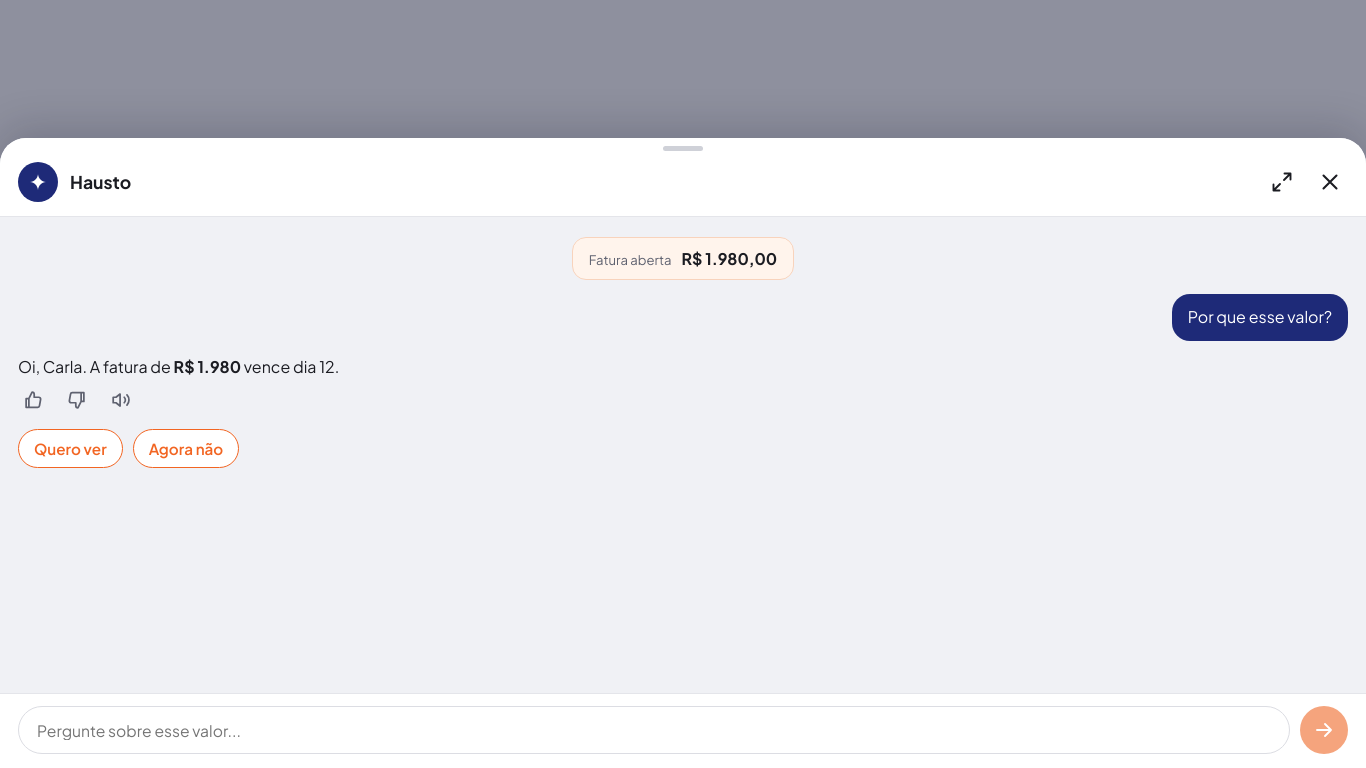
<Chat> › manda o texto da sugestão como mensagem reaproveitando a sessão
Click the button "Quero ver" at {"x": 70, "y": 449}, box x1=18 y1=429 x2=123 y2=468
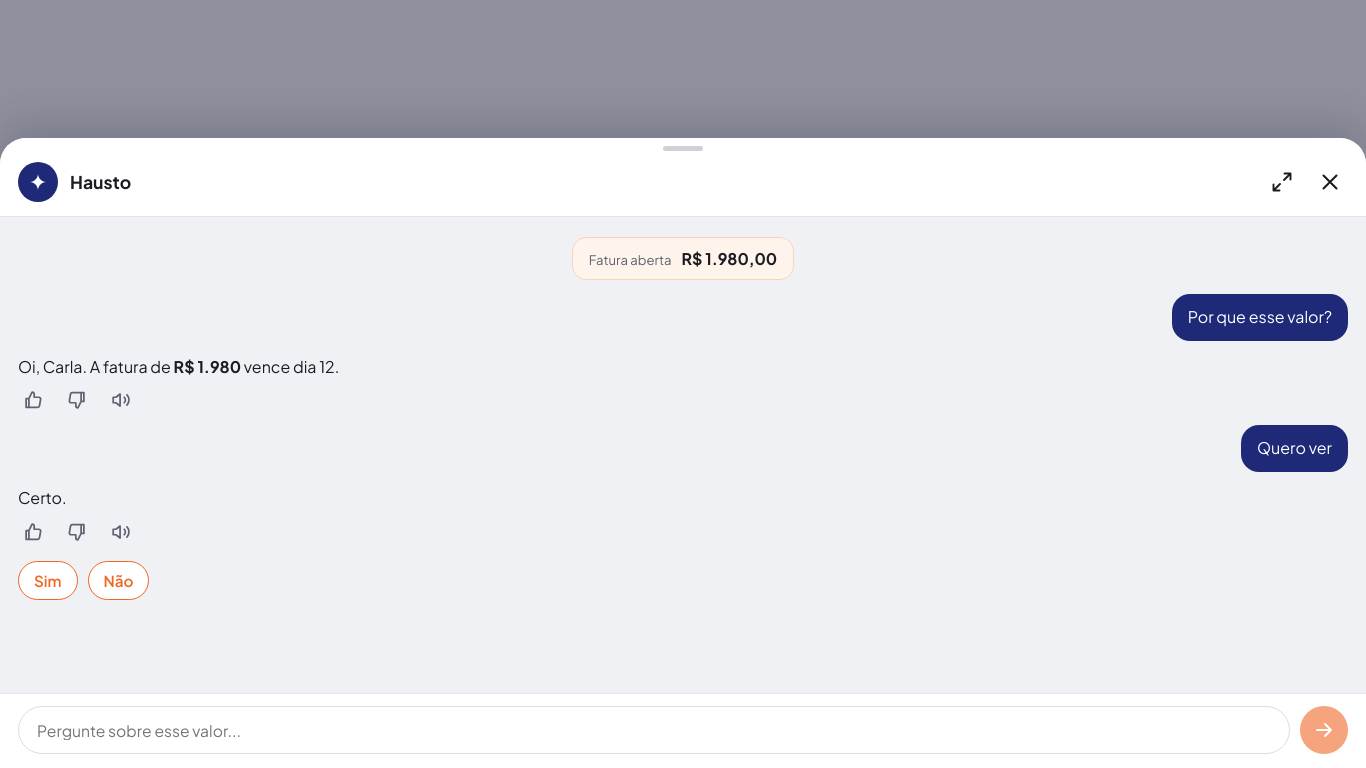
Now the button "Sim" is shown, box x1=18 y1=561 x2=78 y2=600
